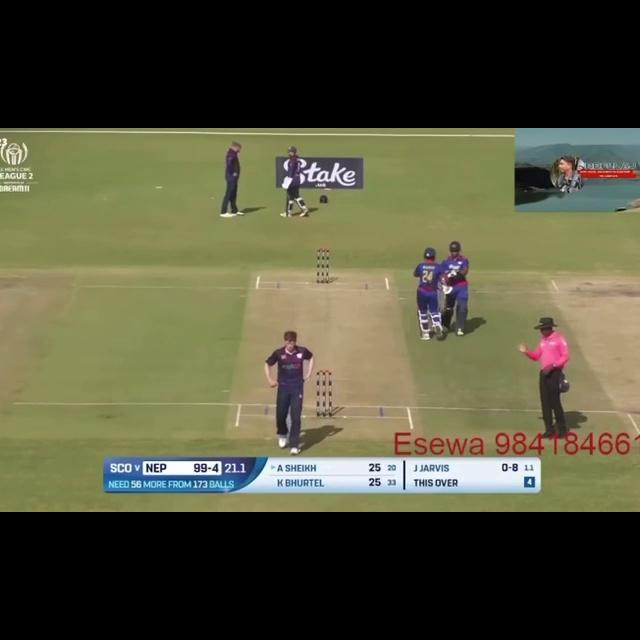umpire: (513, 314, 571, 437)
